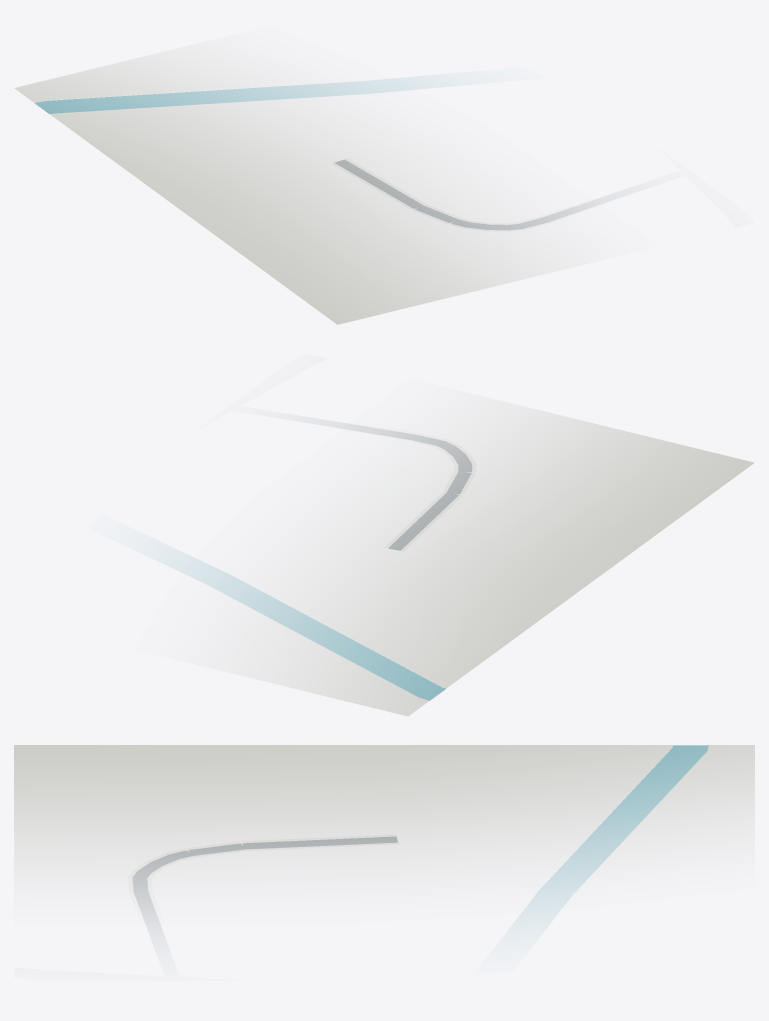
The picture shows the model from 3 angles, top to bottom: view 1: azimuth 30°, elevation 25°; view 2: azimuth 150°, elevation 25°; view 3: azimuth 270°, elevation 25°; orthographic projection. The views are drawn at different scales.
Visible parts, largest first — view 1: city; view 2: city; view 3: city.
Boxes of the visible parts, x1=… form: city: x1=14, y1=43, x2=618, y2=324; city: x1=165, y1=396, x2=754, y2=716; city: x1=14, y1=745, x2=754, y2=935.
Size of the model in its own units: 418 by 0.4 by 500.
